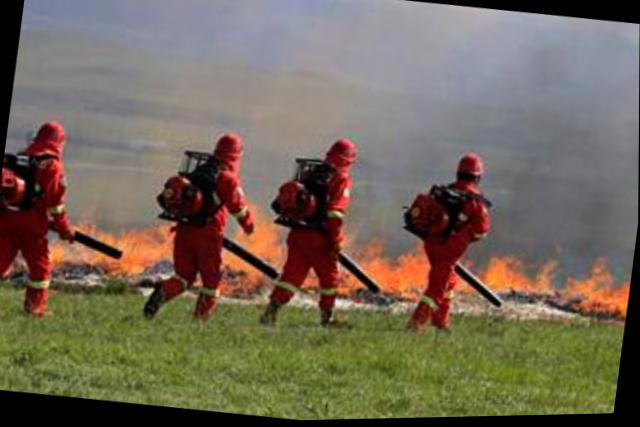fire: (43, 187, 633, 352)
